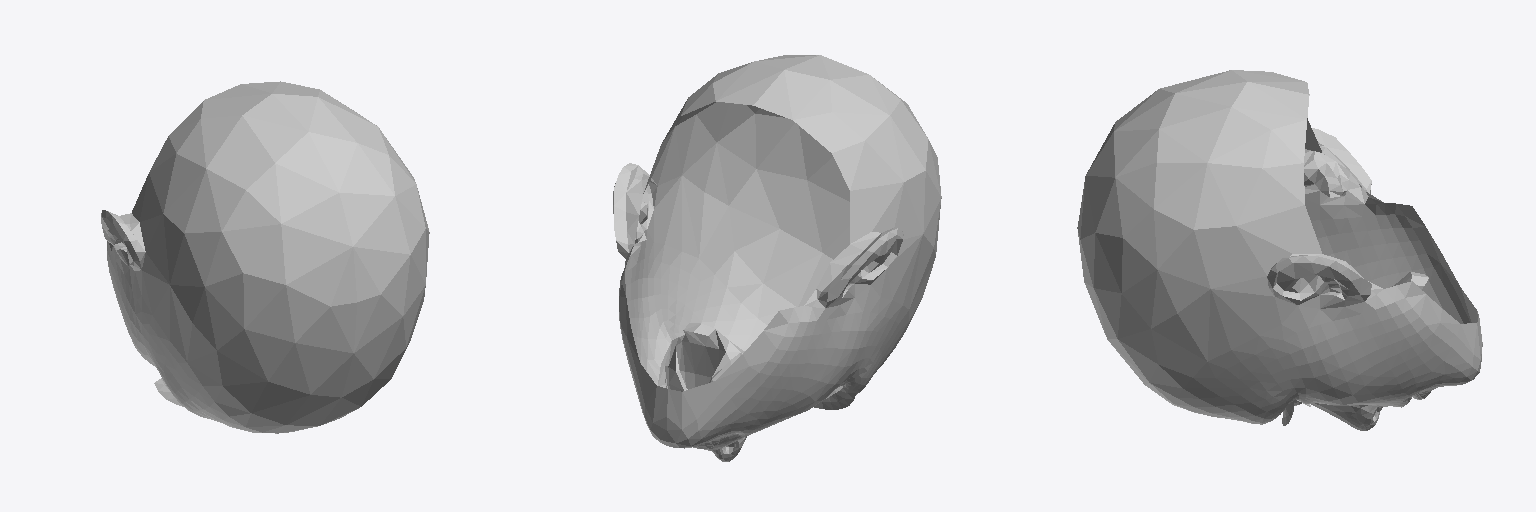
Rendered from Head.obj.
3 views of the same model, side by side, from view 1: azimuth 30°, elevation 25°; view 2: azimuth 150°, elevation 25°; view 3: azimuth 270°, elevation 25° (orthographic).
Parts seen in each view (by area): view 1: Head; view 2: Head, Head_1; view 3: Head.
Boxes of the visible parts, box(x1,y1,x2,y2) form: Head: box(101, 81, 429, 433); Head: box(613, 55, 941, 461); Head_1: box(814, 385, 855, 409); Head: box(1077, 70, 1482, 430).
Bounding box in the file's own units: 0.1745 × 0.2143 × 0.2257.